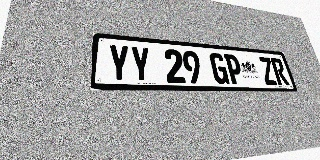2: (164, 49, 186, 83)
9: (182, 50, 203, 84)
G: (209, 52, 230, 84)
P: (224, 54, 245, 84)
R: (270, 58, 290, 85)
Y: (108, 44, 130, 82), (130, 46, 152, 82)
Z: (258, 57, 278, 85)
